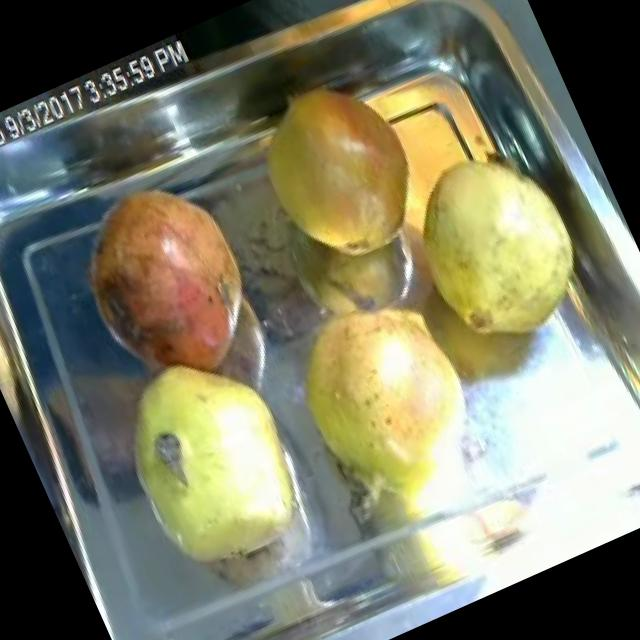fruit: (76, 312, 354, 619), (250, 251, 516, 540), (47, 147, 298, 420), (374, 114, 616, 381), (217, 44, 453, 300)
